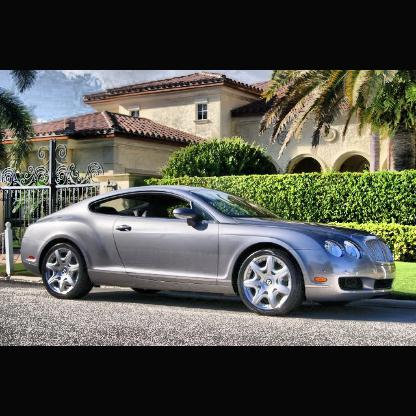Bentley Continental GT Coupe 2007: (23, 187, 396, 318)
